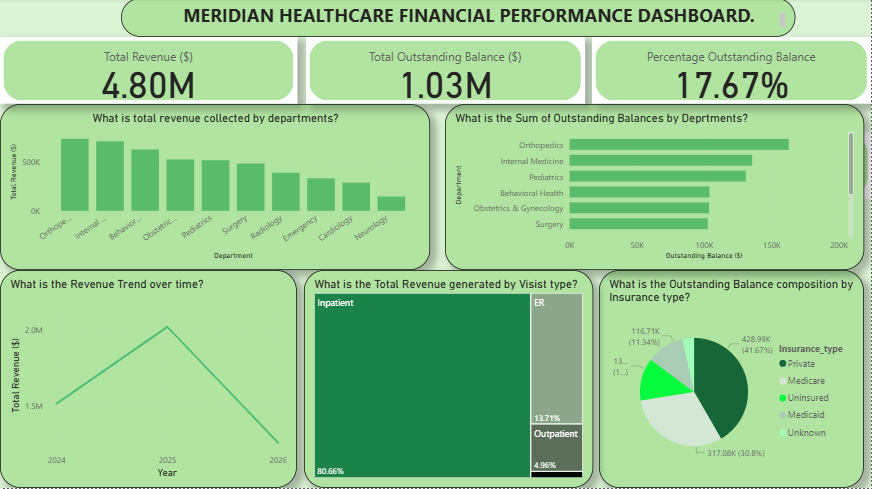

What the dashboard file says about the page in this screenshot:
{"tool":"powerbi","page":{"name":"Financial Performance","canvas":[1280,720],"ordinal":0},"visuals":[{"type":"textbox","box":[177.9,0,991,57.2],"z":0},{"type":"cardVisual","fields":{"Data":["(Billing, Visits, Patients).Sum of outstanding_balance divided by Sum of total_charge"]},"box":[879.8,196.9,400.2,98.5],"z":4},{"type":"columnChart","title":"What is total revenue collected by departments?","fields":{"Category":["(Billing, Visits, Patients).Visits.department"],"Y":["Sum((Billing, Visits, Patients).total_revenue)"]},"box":[0,155.8,631.8,243.9],"z":5},{"type":"pieChart","title":"What is the Outstanding Balance composition by Insurance type?","fields":{"Y":["Sum((Billing, Visits, Patients).outstanding_balance)"],"Category":["(Billing, Visits, Patients).Patients.insurance_type"]},"box":[880.2,399.7,389.4,320.3],"z":6},{"type":"lineChart","title":"What is the Revenue Trend over time?","fields":{"Y":["Sum((Billing, Visits, Patients).total_revenue)"],"Category":["(Billing, Visits, Patients).Visits.visit_date.Variation.Date Hierarchy.Year","(Billing, Visits, Patients).Visits.visit_date.Variation.Date Hierarchy.Quarter","(Billing, Visits, Patients).Visits.visit_date.Variation.Date Hierarchy.Month","(Billing, Visits, Patients).Visits.visit_date.Variation.Date Hierarchy.Day"]},"box":[0,399.7,436.4,320.3],"z":7},{"type":"barChart","title":"What is the Sum of Outstanding Balances by Deprtments?","fields":{"Y":["Sum((Billing, Visits, Patients).outstanding_balance)"],"Category":["(Billing, Visits, Patients).Visits.department"]},"box":[653.9,155.8,615.7,243.9],"z":8},{"type":"treemap","title":"What is the Total Revenue generated by Visist type?","fields":{"Values":["Sum((Billing, Visits, Patients).total_revenue)"],"Group":["(Billing, Visits, Patients).Visits.visit_type"]},"box":[446.7,399.7,424.7,320.3],"z":9},{"type":"cardVisual","fields":{"Data":["Sum(Billing__Visits__Patients.total_revenue)"]},"box":[0,57.2,436.7,98.5],"z":11},{"type":"cardVisual","fields":{"Data":["Sum((Billing, Visits, Patients).outstanding_balance)"]},"box":[449.4,57.2,409.7,98.5],"z":12},{"type":"cardVisual","fields":{"Data":["(Billing, Visits, Patients).Percentage Outstanding Balance"]},"box":[870.3,57.2,409.7,98.5],"z":13}]}

Visuals, with their boxes in screenshot pixels (x1, y1, x2, y2), scaled from the page's 1280x720 canvas onto the 872x489 screenshot:
textbox: pyautogui.locateOnScreen(121, 0, 796, 39)
cardVisual - (Billing, Visits, Patients).Sum of outstanding_balance divided by Sum of total_charge: pyautogui.locateOnScreen(599, 134, 871, 201)
"What is total revenue collected by departments?" columnChart: pyautogui.locateOnScreen(0, 106, 430, 271)
"What is the Outstanding Balance composition by Insurance type?" pieChart: pyautogui.locateOnScreen(600, 271, 865, 488)
"What is the Revenue Trend over time?" lineChart: pyautogui.locateOnScreen(0, 271, 297, 488)
"What is the Sum of Outstanding Balances by Deprtments?" barChart: pyautogui.locateOnScreen(445, 106, 865, 271)
"What is the Total Revenue generated by Visist type?" treemap: pyautogui.locateOnScreen(304, 271, 594, 488)
cardVisual - Sum(Billing__Visits__Patients.total_revenue): pyautogui.locateOnScreen(0, 39, 298, 106)
cardVisual - Sum((Billing, Visits, Patients).outstanding_balance): pyautogui.locateOnScreen(306, 39, 585, 106)
cardVisual - (Billing, Visits, Patients).Percentage Outstanding Balance: pyautogui.locateOnScreen(593, 39, 871, 106)
